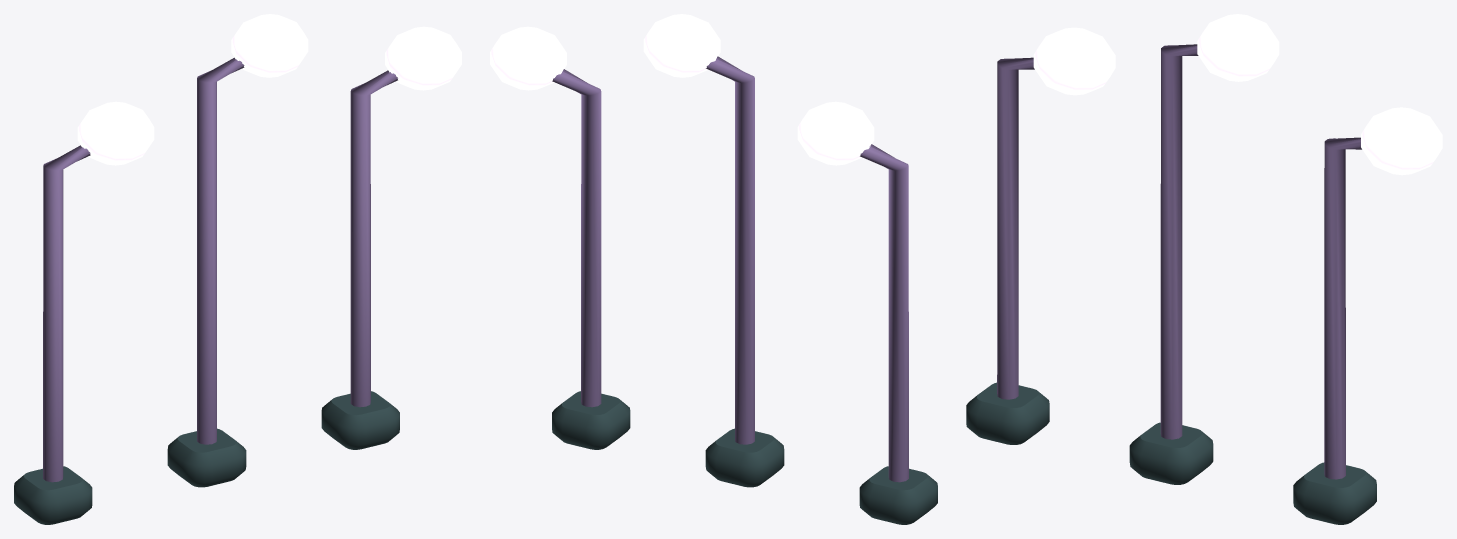
The model's file is lights_4.glb.
The picture shows the model from 3 angles, left to right: view 1: azimuth 30°, elevation 25°; view 2: azimuth 150°, elevation 25°; view 3: azimuth 330°, elevation 25°; orthographic projection. The views are drawn at different scales.
Visible parts, largest first — view 1: Lights; view 2: Lights; view 3: Lights.
Part boxes in pixels (x1,y1,x2,y2): Lights: (14, 14, 461, 524); Lights: (490, 14, 937, 524); Lights: (966, 14, 1442, 524).
Size of the model in its own units: 3.53 by 3.43 by 0.5265.
